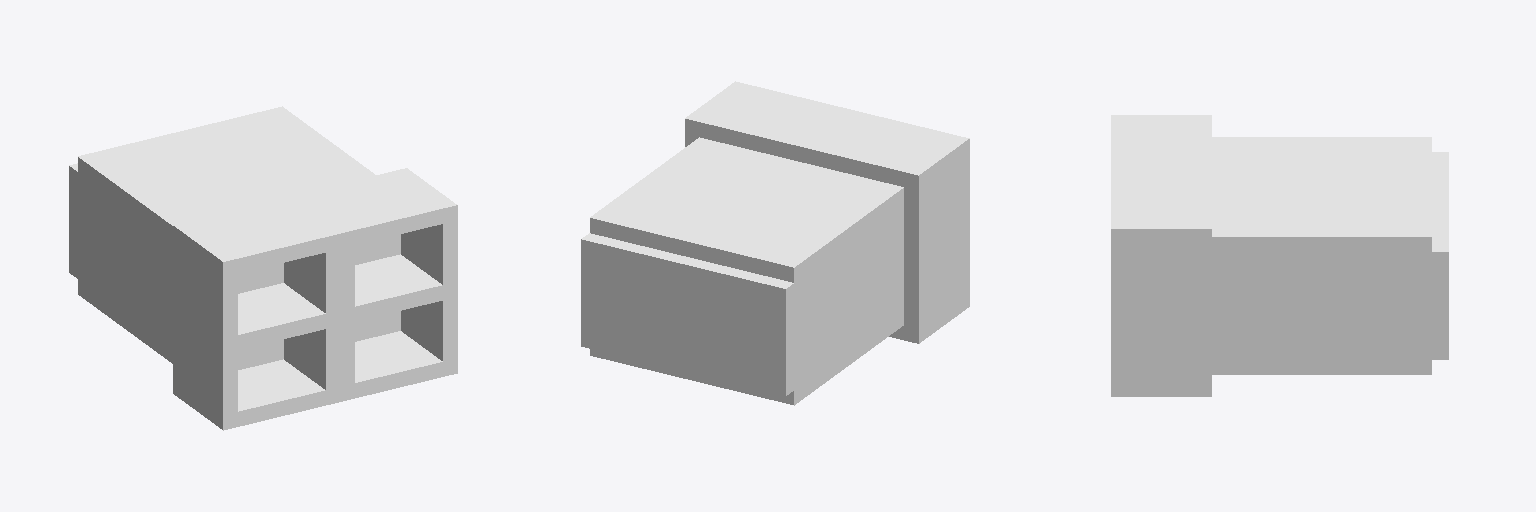
File: Boss-4.obj
3 views of the same model, side by side, from view 1: azimuth 30°, elevation 25°; view 2: azimuth 150°, elevation 25°; view 3: azimuth 270°, elevation 25° (orthographic).
Parts seen in each view (by area): view 1: Boss-4; view 2: Boss-4; view 3: Boss-4.
Boxes of the visible parts, box(x1,y1,x2,y2) form: Boss-4: box(69, 106, 457, 430); Boss-4: box(581, 81, 969, 405); Boss-4: box(1111, 115, 1448, 396).
Bounding box in the file's own units: 16 × 11 × 20.